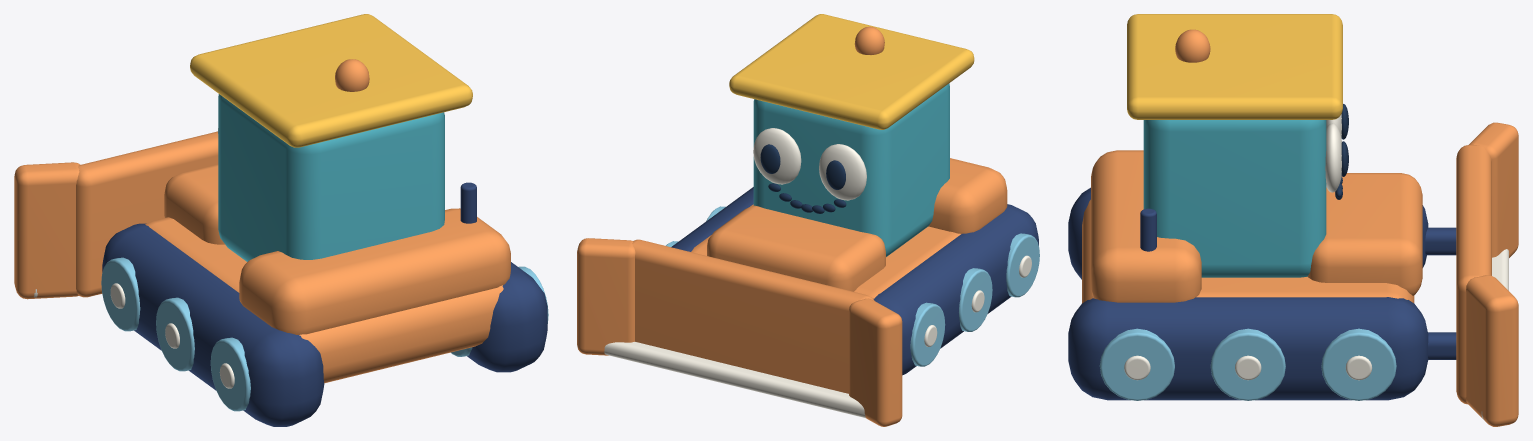
The model's file is bulldozer.glb.
3 views of the same model, side by side, from view 1: azimuth 30°, elevation 25°; view 2: azimuth 150°, elevation 25°; view 3: azimuth 270°, elevation 25° (orthographic). The views are drawn at different scales.
Parts seen in each view (by area): view 1: Cab, Sunny roof, Round rear body, Soft track, Chunky orange chassis, Main pushing blade, Blade wing, Soft track.001, Engine hood, Wheel.002, Wheel, Wheel.001 (+2 smaller); view 2: Main pushing blade, Cab, Sunny roof, Engine hood, Soft track, Blade wing.001, Blade wing, Blunt cutting edge, Round rear body, Chunky orange chassis, Eye.001, Eye (+7 smaller); view 3: Cab, Soft track.001, Sunny roof, Round rear body, Engine hood, Blade wing.001, Main pushing blade, Chunky orange chassis, Blade wing, Wheel.005, Wheel.003, Wheel.004 (+10 smaller).
Boxes of the visible parts, x1,y1,x2,y2 form: Cab: [218, 94, 444, 261]; Sunny roof: [190, 14, 472, 147]; Round rear body: [239, 208, 510, 334]; Soft track: [102, 223, 324, 426]; Chunky orange chassis: [145, 217, 503, 383]; Main pushing blade: [76, 131, 218, 297]; Blade wing: [14, 162, 80, 299]; Soft track.001: [467, 262, 547, 372]; Engine hood: [164, 164, 224, 244]; Wheel.002: [210, 337, 250, 411]; Wheel: [101, 257, 140, 331]; Wheel.001: [156, 297, 194, 371]; Main pushing blade: [632, 239, 874, 393]; Cab: [753, 83, 949, 256]; Sunny roof: [729, 14, 974, 129]; Engine hood: [707, 205, 885, 291]; Soft track: [873, 204, 1038, 375]; Blade wing.001: [577, 238, 635, 355]; Blade wing: [849, 298, 902, 426]; Blunt cutting edge: [604, 342, 865, 417]; Round rear body: [928, 158, 1007, 233]; Chunky orange chassis: [691, 204, 960, 298]; Eye.001: [753, 128, 801, 184]; Eye: [819, 144, 866, 200]; Cab: [1143, 120, 1326, 277]; Soft track.001: [1068, 297, 1428, 400]; Sunny roof: [1127, 14, 1342, 119]; Round rear body: [1091, 150, 1201, 302]; Engine hood: [1308, 173, 1422, 295]; Blade wing.001: [1466, 275, 1518, 426]; Main pushing blade: [1456, 144, 1491, 404]; Chunky orange chassis: [1082, 199, 1414, 303]; Blade wing: [1469, 122, 1518, 257]; Wheel.005: [1099, 328, 1174, 400]; Wheel.003: [1321, 328, 1396, 400]; Wheel.004: [1210, 328, 1285, 400].
Bounding box in the file's own units: 3.92 × 3.08 × 4.07.
